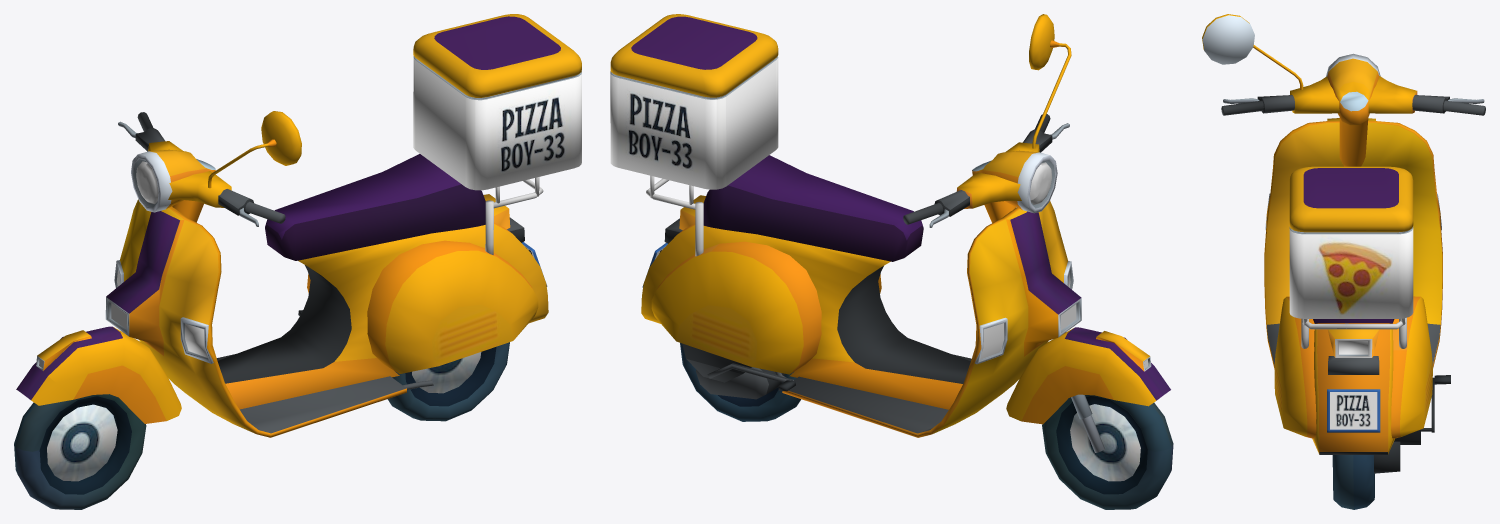
The model's file is Scooter for Delivery.fbx.
3 renders of one model, left to right at view 1: azimuth 30°, elevation 25°; view 2: azimuth 150°, elevation 25°; view 3: azimuth 270°, elevation 25°, orthographic. The views are drawn at different scales.
Parts seen in each view (by area): view 1: 29-_Material.009, 29-_Material.028, 29-_Material.013, 29-_Material.003, 29-_Material.006; view 2: 29-_Material.009, 29-_Material.028, 29-_Material.013, 29-_Material.003, 29-_Material.006; view 3: 29-_Material.009, 29-_Material.003, 29-_Material.006.
Boxes of the visible parts, x1,y1,x2,y2 form: 29-_Material.009: (105,14,581,437); 29-_Material.028: (14,394,146,509); 29-_Material.013: (16,326,181,423); 29-_Material.003: (118,111,301,226); 29-_Material.006: (387,342,509,421); 29-_Material.009: (610,14,1081,437); 29-_Material.028: (1042,395,1173,509); 29-_Material.013: (1006,327,1170,452); 29-_Material.003: (903,14,1071,227); 29-_Material.006: (680,343,800,421); 29-_Material.009: (1264,118,1450,473); 29-_Material.003: (1202,14,1485,166); 29-_Material.006: (1332,455,1374,509).
Bounding box in the file's own units: 245 × 180 × 120.
